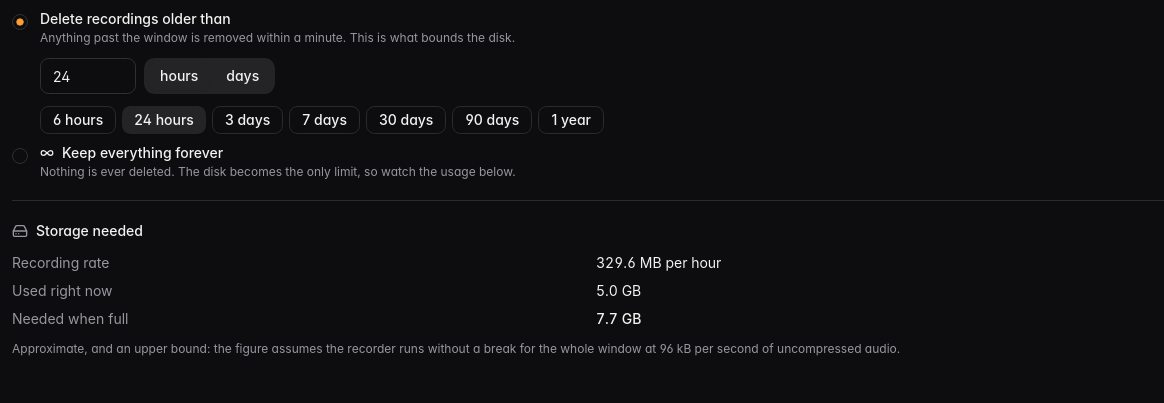
Test case: the retention settings card › the storage projection › shows the forever warning as soon as forever is picked, before saving
Click the radio button named "Keep everything forever" next to "Keep everything forever".
click(20, 156)  # box [12,148,28,164]
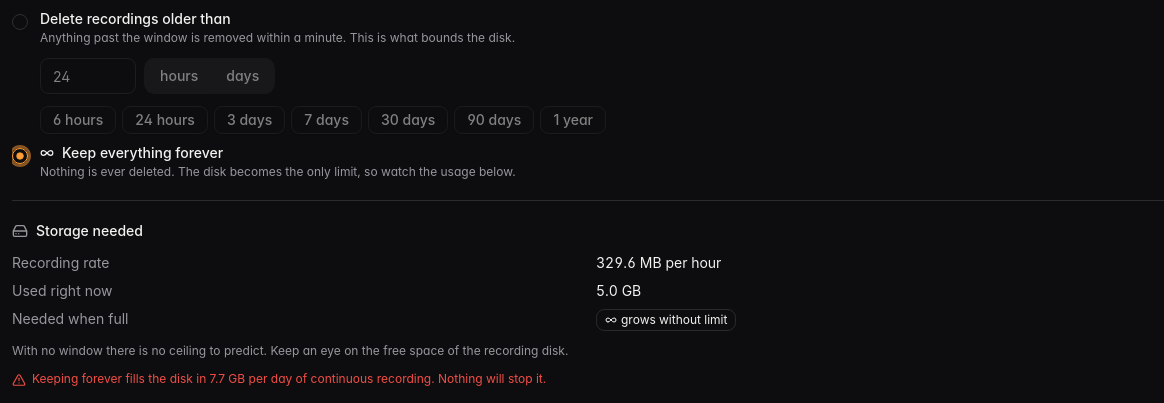
Result: the text "Nothing will stop it" is shown at [245,371,546,386]
